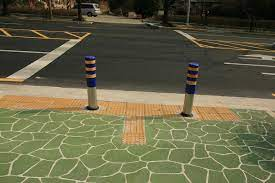guide_blocks: (1, 96, 237, 117), (122, 117, 146, 145)
